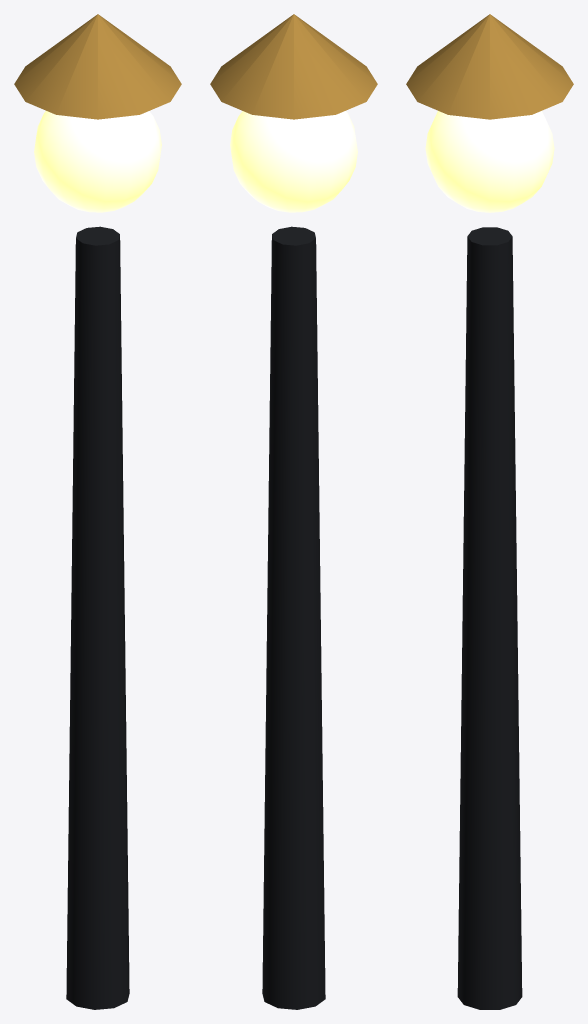
The model's file is garden-lantern.glb.
3 renders of one model, left to right at view 1: azimuth 30°, elevation 25°; view 2: azimuth 150°, elevation 25°; view 3: azimuth 270°, elevation 25°, orthographic.
Visible parts, largest first — view 1: garden-lantern_MeshStandardMaterial (×3); view 2: garden-lantern_MeshStandardMaterial (×3); view 3: garden-lantern_MeshStandardMaterial (×3).
Boxes of the visible parts, box(x1,y1,x2,y2) form: garden-lantern_MeshStandardMaterial (×3): box(14, 14, 181, 1009); garden-lantern_MeshStandardMaterial (×3): box(210, 14, 377, 1009); garden-lantern_MeshStandardMaterial (×3): box(406, 14, 573, 1009).
Bounding box in the file's own units: 0.26 × 1.68 × 0.26.
